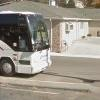Bus: (2, 8, 54, 80)
